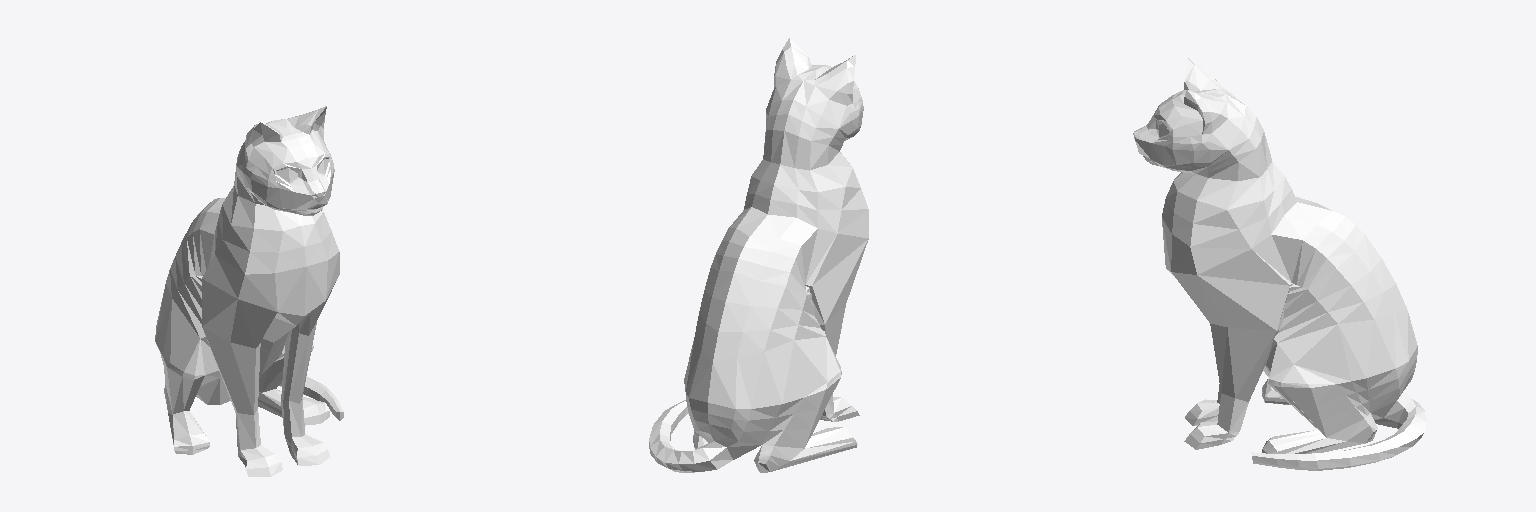
Rendered from cat.obj.
3 views of the same model, side by side, from view 1: azimuth 30°, elevation 25°; view 2: azimuth 150°, elevation 25°; view 3: azimuth 270°, elevation 25° (orthographic).
Parts seen in each view (by area): view 1: Plane_1; view 2: Plane_1; view 3: Plane_1.
Part boxes in pixels (left/top/right/bottom): Plane_1: left=155, top=106, right=343, bottom=476; Plane_1: left=649, top=38, right=868, bottom=472; Plane_1: left=1133, top=57, right=1426, bottom=470.
Bounding box in the file's own units: 22.9 × 45.6 × 34.